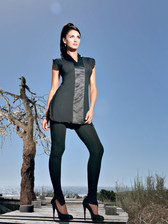clothoes: (43, 103, 101, 206), (43, 55, 101, 126)
shoes: (49, 196, 76, 224), (81, 196, 106, 223)
